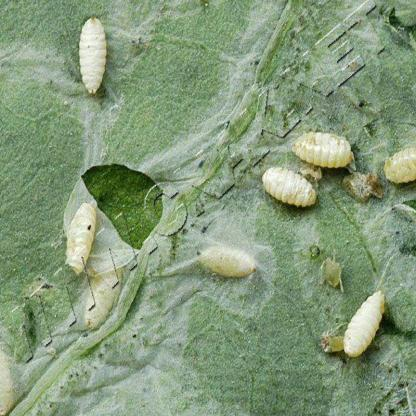whorl-maggot: (69, 11, 118, 98), (342, 284, 390, 360), (259, 160, 320, 215), (194, 242, 260, 284), (287, 132, 359, 166), (66, 199, 96, 276), (384, 147, 416, 187)
